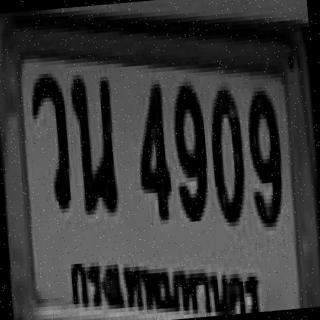A25: (67, 68, 119, 211)
A37: (28, 68, 71, 206)
N00: (205, 81, 247, 223)
N04: (130, 80, 172, 218)
N09: (243, 86, 285, 224), (168, 80, 210, 218)
P04: (60, 230, 267, 320)
